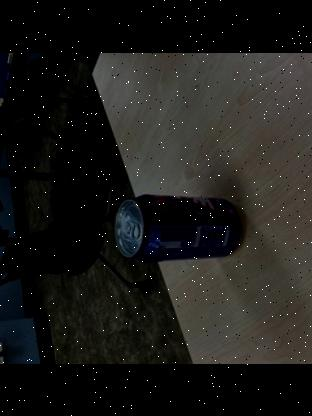Can: (110, 193, 246, 264)
